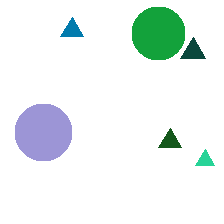circle: (15, 104, 71, 160), (132, 7, 184, 59)
triangle: (180, 37, 205, 58), (158, 128, 181, 147), (60, 17, 83, 36), (195, 149, 214, 165)
